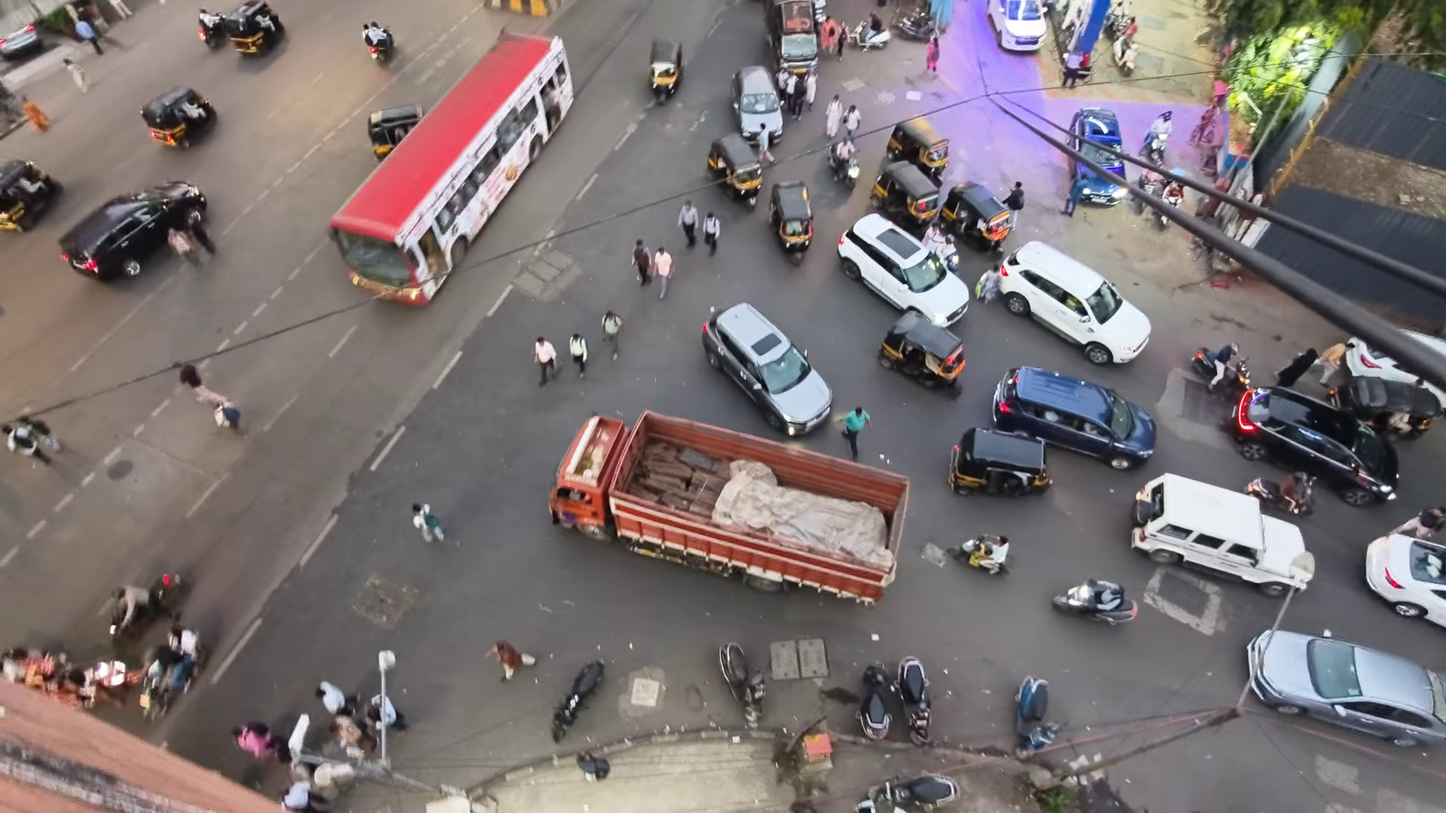driving: (549, 412, 908, 603), (330, 33, 572, 304), (1224, 387, 1398, 506), (999, 241, 1151, 364), (700, 303, 831, 436), (993, 367, 1156, 470), (837, 214, 971, 327)
walking: (180, 364, 238, 431), (231, 722, 291, 763), (0, 422, 50, 464), (487, 641, 535, 681), (1393, 507, 1445, 540), (331, 714, 377, 751), (281, 780, 331, 812), (1277, 348, 1318, 387), (842, 406, 871, 460), (1317, 343, 1353, 385), (366, 694, 407, 730), (1208, 343, 1238, 389), (186, 208, 215, 254), (316, 681, 353, 715), (412, 503, 444, 542), (168, 227, 198, 266), (1061, 175, 1088, 217), (534, 337, 557, 385), (653, 246, 673, 299), (602, 310, 623, 360), (678, 200, 699, 248), (1002, 181, 1023, 229), (576, 751, 609, 781), (22, 96, 50, 131), (75, 19, 102, 54), (975, 265, 999, 303), (63, 59, 88, 93), (825, 95, 843, 142), (632, 239, 650, 285), (569, 333, 587, 378), (782, 69, 798, 117), (1062, 50, 1082, 87), (703, 212, 720, 254), (758, 125, 775, 162), (843, 105, 861, 139), (926, 35, 939, 74), (804, 70, 816, 111), (834, 23, 847, 60), (109, 0, 133, 18)
